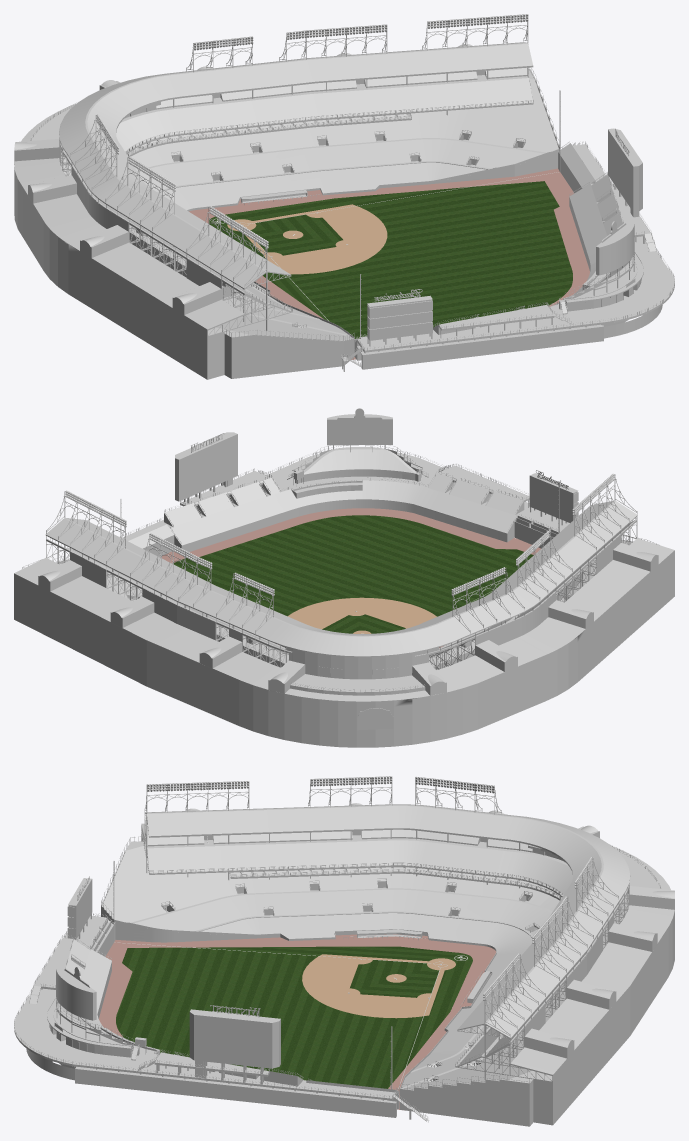
Rendered from skeleton.glb.
3 renders of one model, top to bottom at view 1: azimuth 30°, elevation 25°; view 2: azimuth 150°, elevation 25°; view 3: azimuth 270°, elevation 25°, orthographic. The views are drawn at different scales.
Visible parts, largest first — view 1: Mesh22 Skeleton; view 2: Mesh22 Skeleton; view 3: Mesh22 Skeleton.
Boxes of the visible parts, x1,y1,x2,y2 form: Mesh22 Skeleton: [14, 14, 674, 379]; Mesh22 Skeleton: [14, 408, 674, 747]; Mesh22 Skeleton: [14, 776, 674, 1126].
Bounding box in the file's own units: 2216 × 482 × 2374.
Materials: 6 (1 with a texture image).
